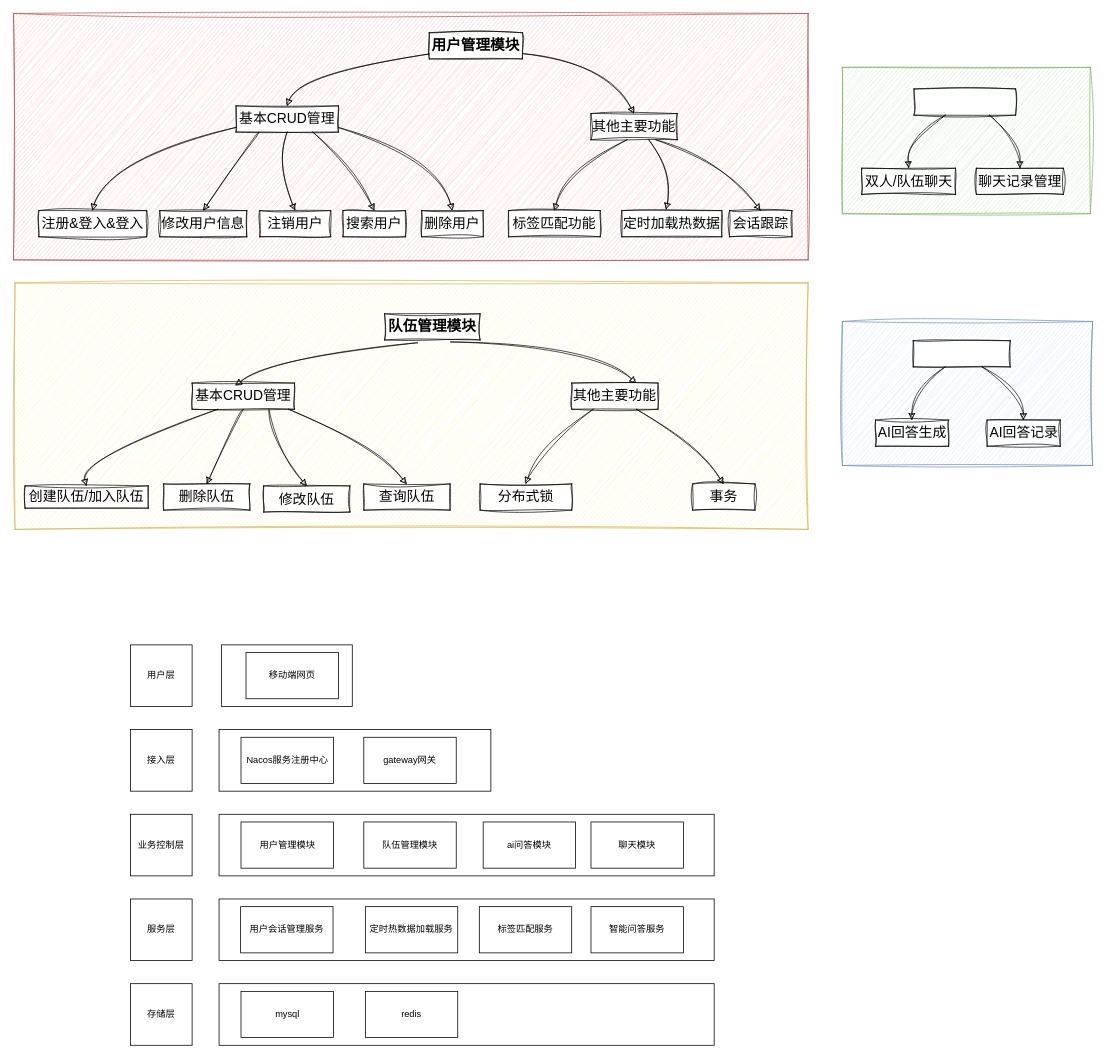
The diagram is 1106 pixels wide and 1059 high, and some of its shapes have lost their labels. Each missing label, with the centre of its shape:
AI回答模块: (x=961, y=353)
聊天管理模块: (x=964, y=101)
